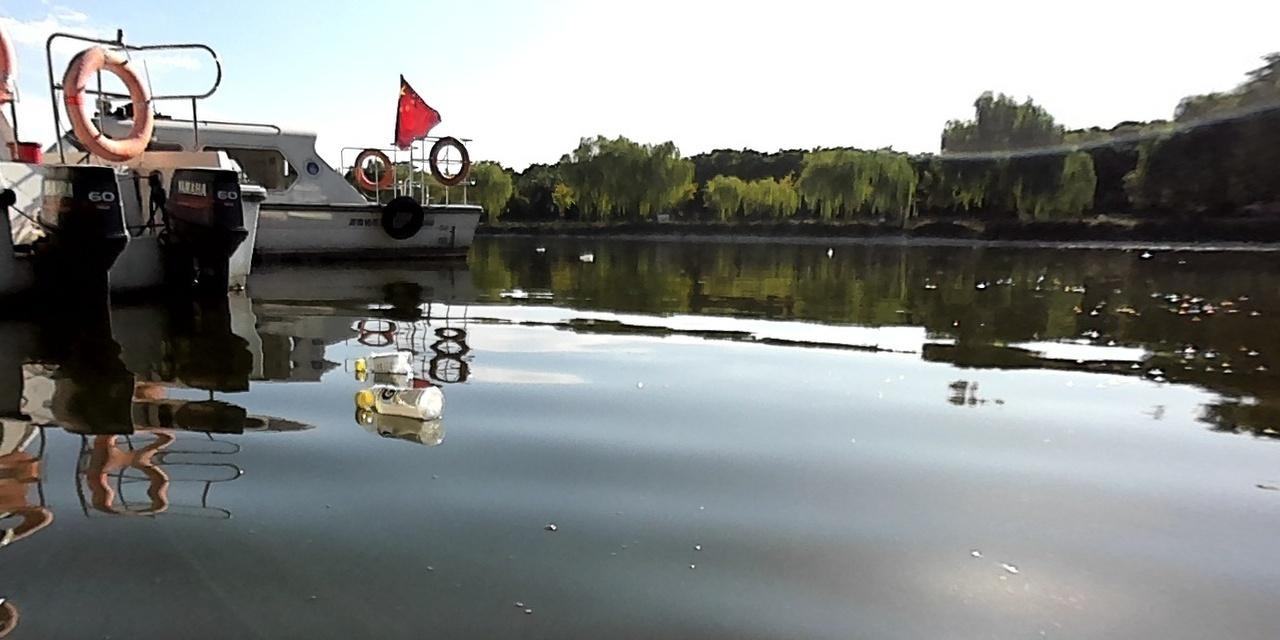bottle: (353, 381, 442, 423), (352, 351, 411, 373), (578, 253, 592, 262)
